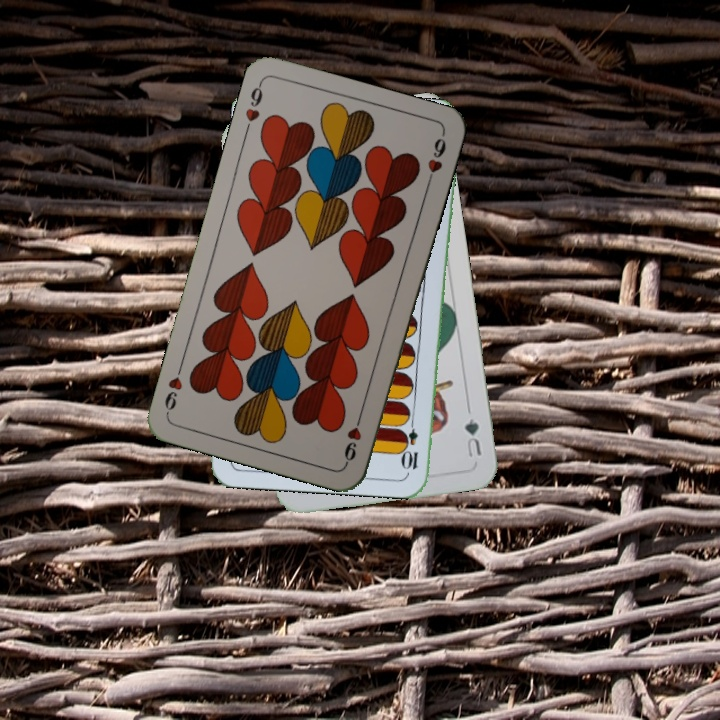E10: (401, 413, 421, 472)
GU: (460, 414, 484, 461)
H9: (340, 409, 365, 467), (241, 78, 266, 124)
